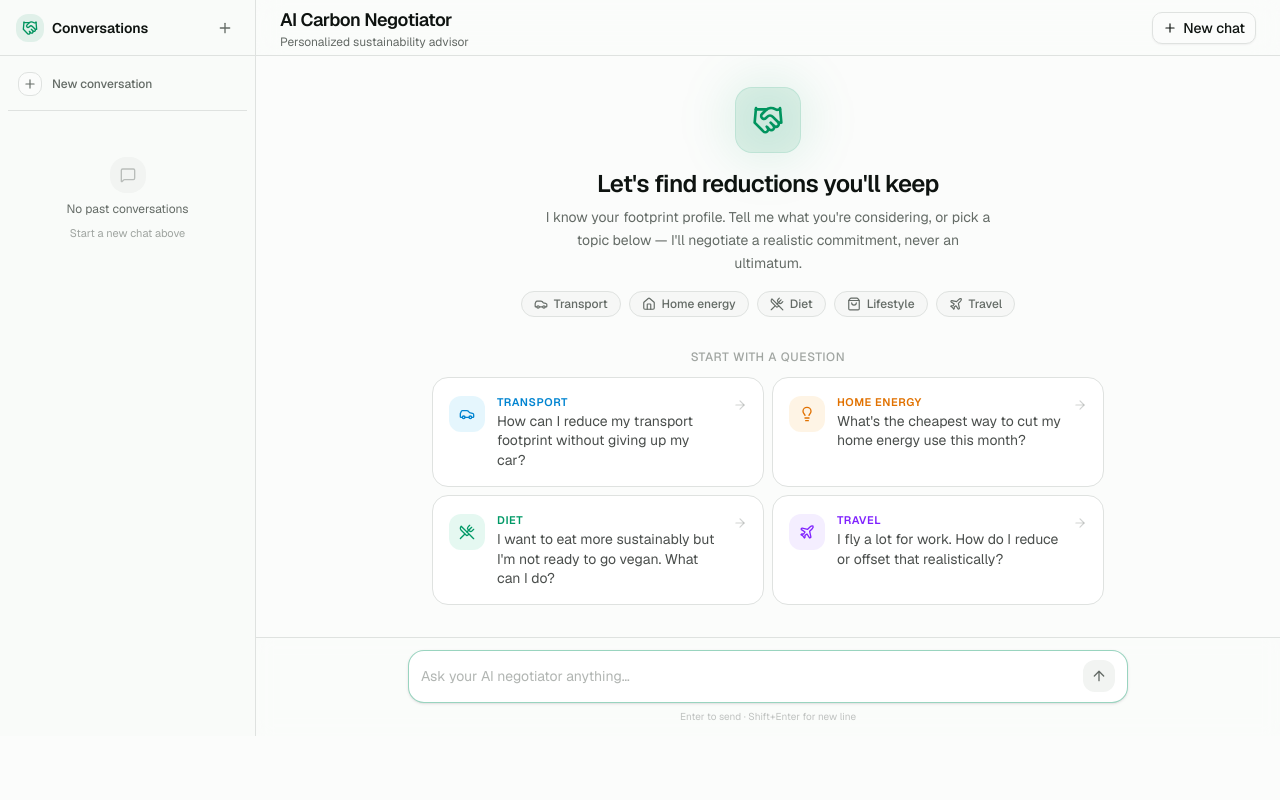
Scenario: NegotiatorClient › can dismiss error banner
The image size is (1280, 800).
Type "Error" into the text box named "message input" at (748, 677), box [421,659,1075,694]
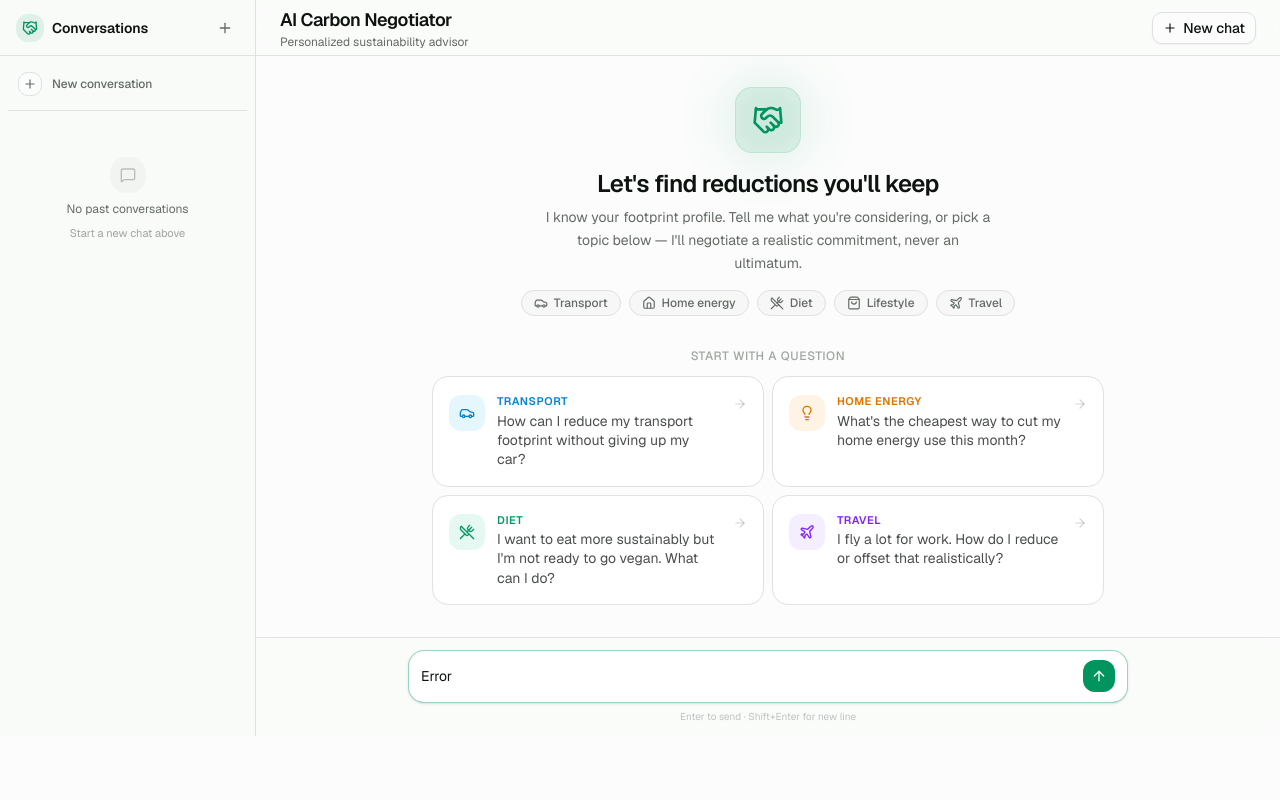
Click the button named "send message" at (1099, 676), box [1083,660,1115,692]
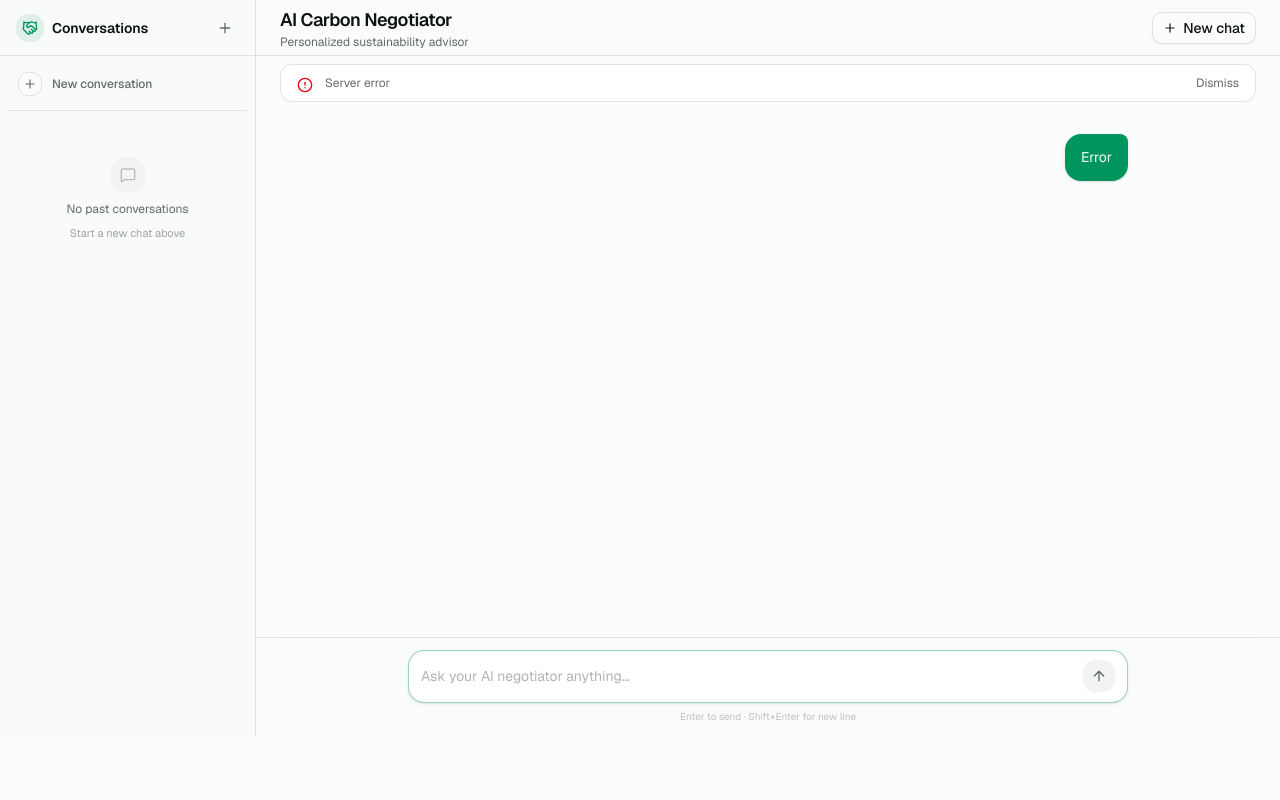
Check: the text "Server error" is shown, box [325,75,390,91]
Click the button "Dismiss" at (1218, 83), box [1196,75,1239,91]
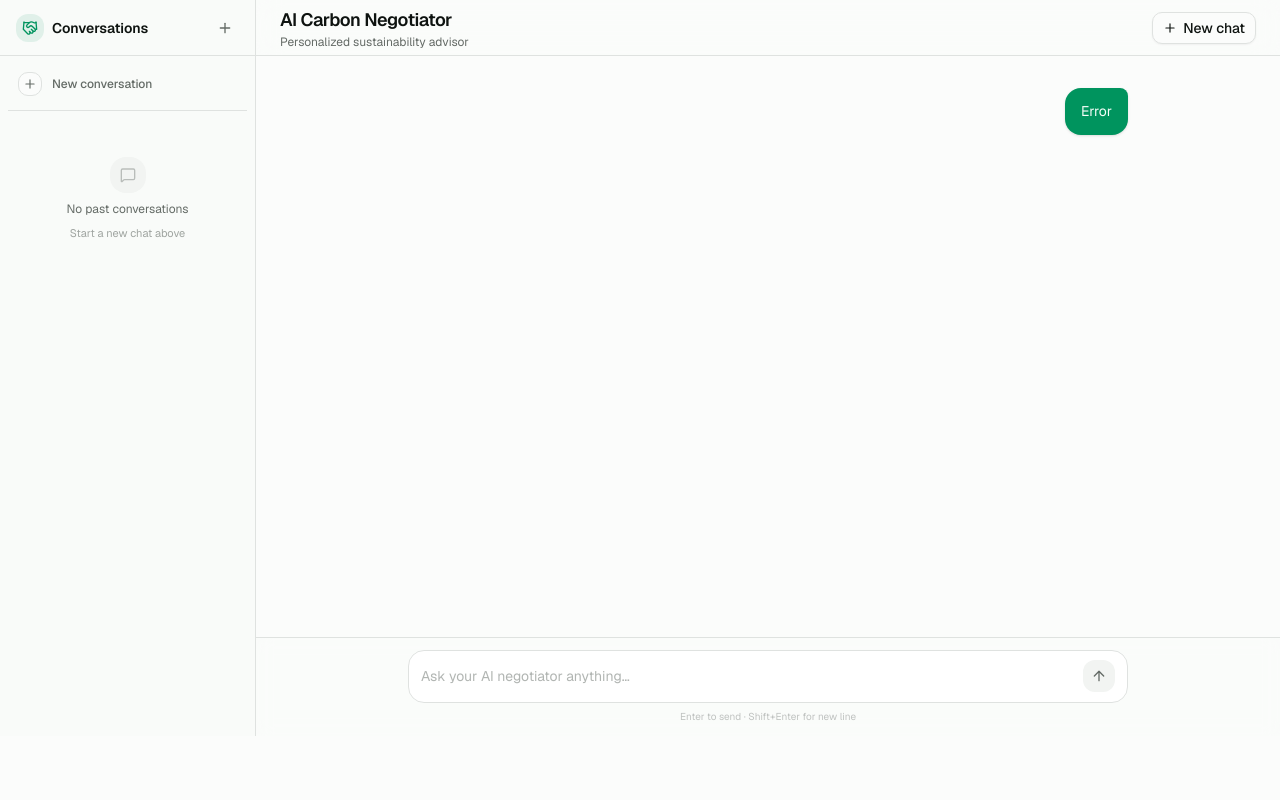
Check: the text "Server error" is gone
